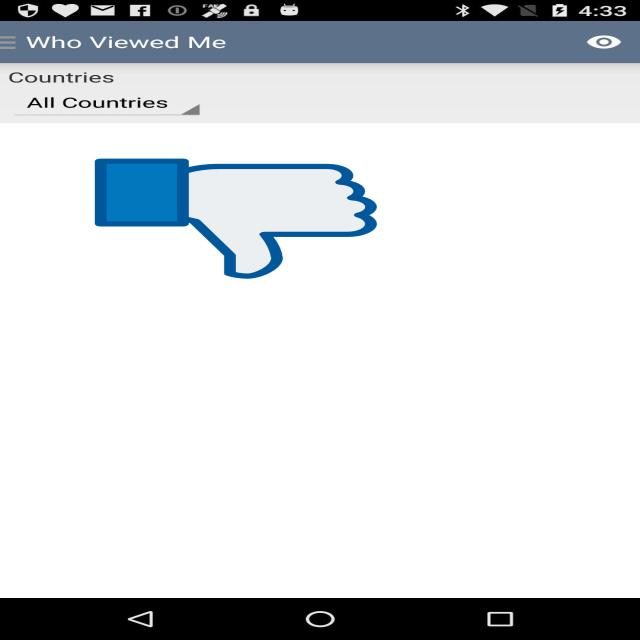obstruction: (95, 156, 377, 281)
